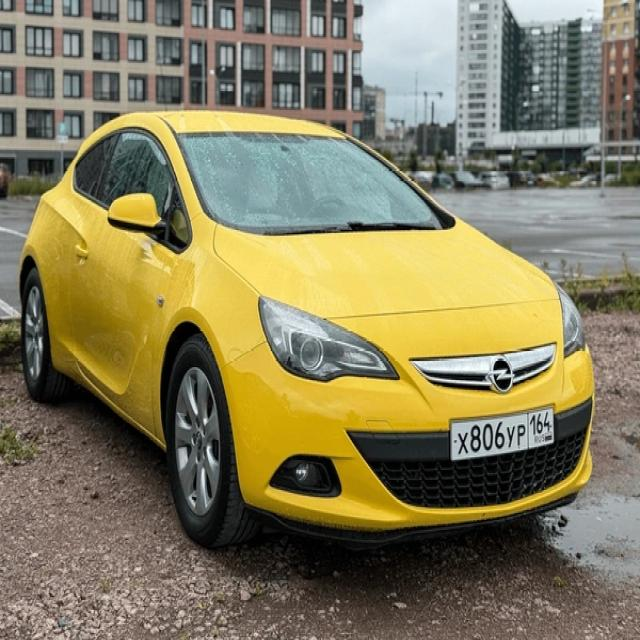opel: (488, 352, 515, 396)
